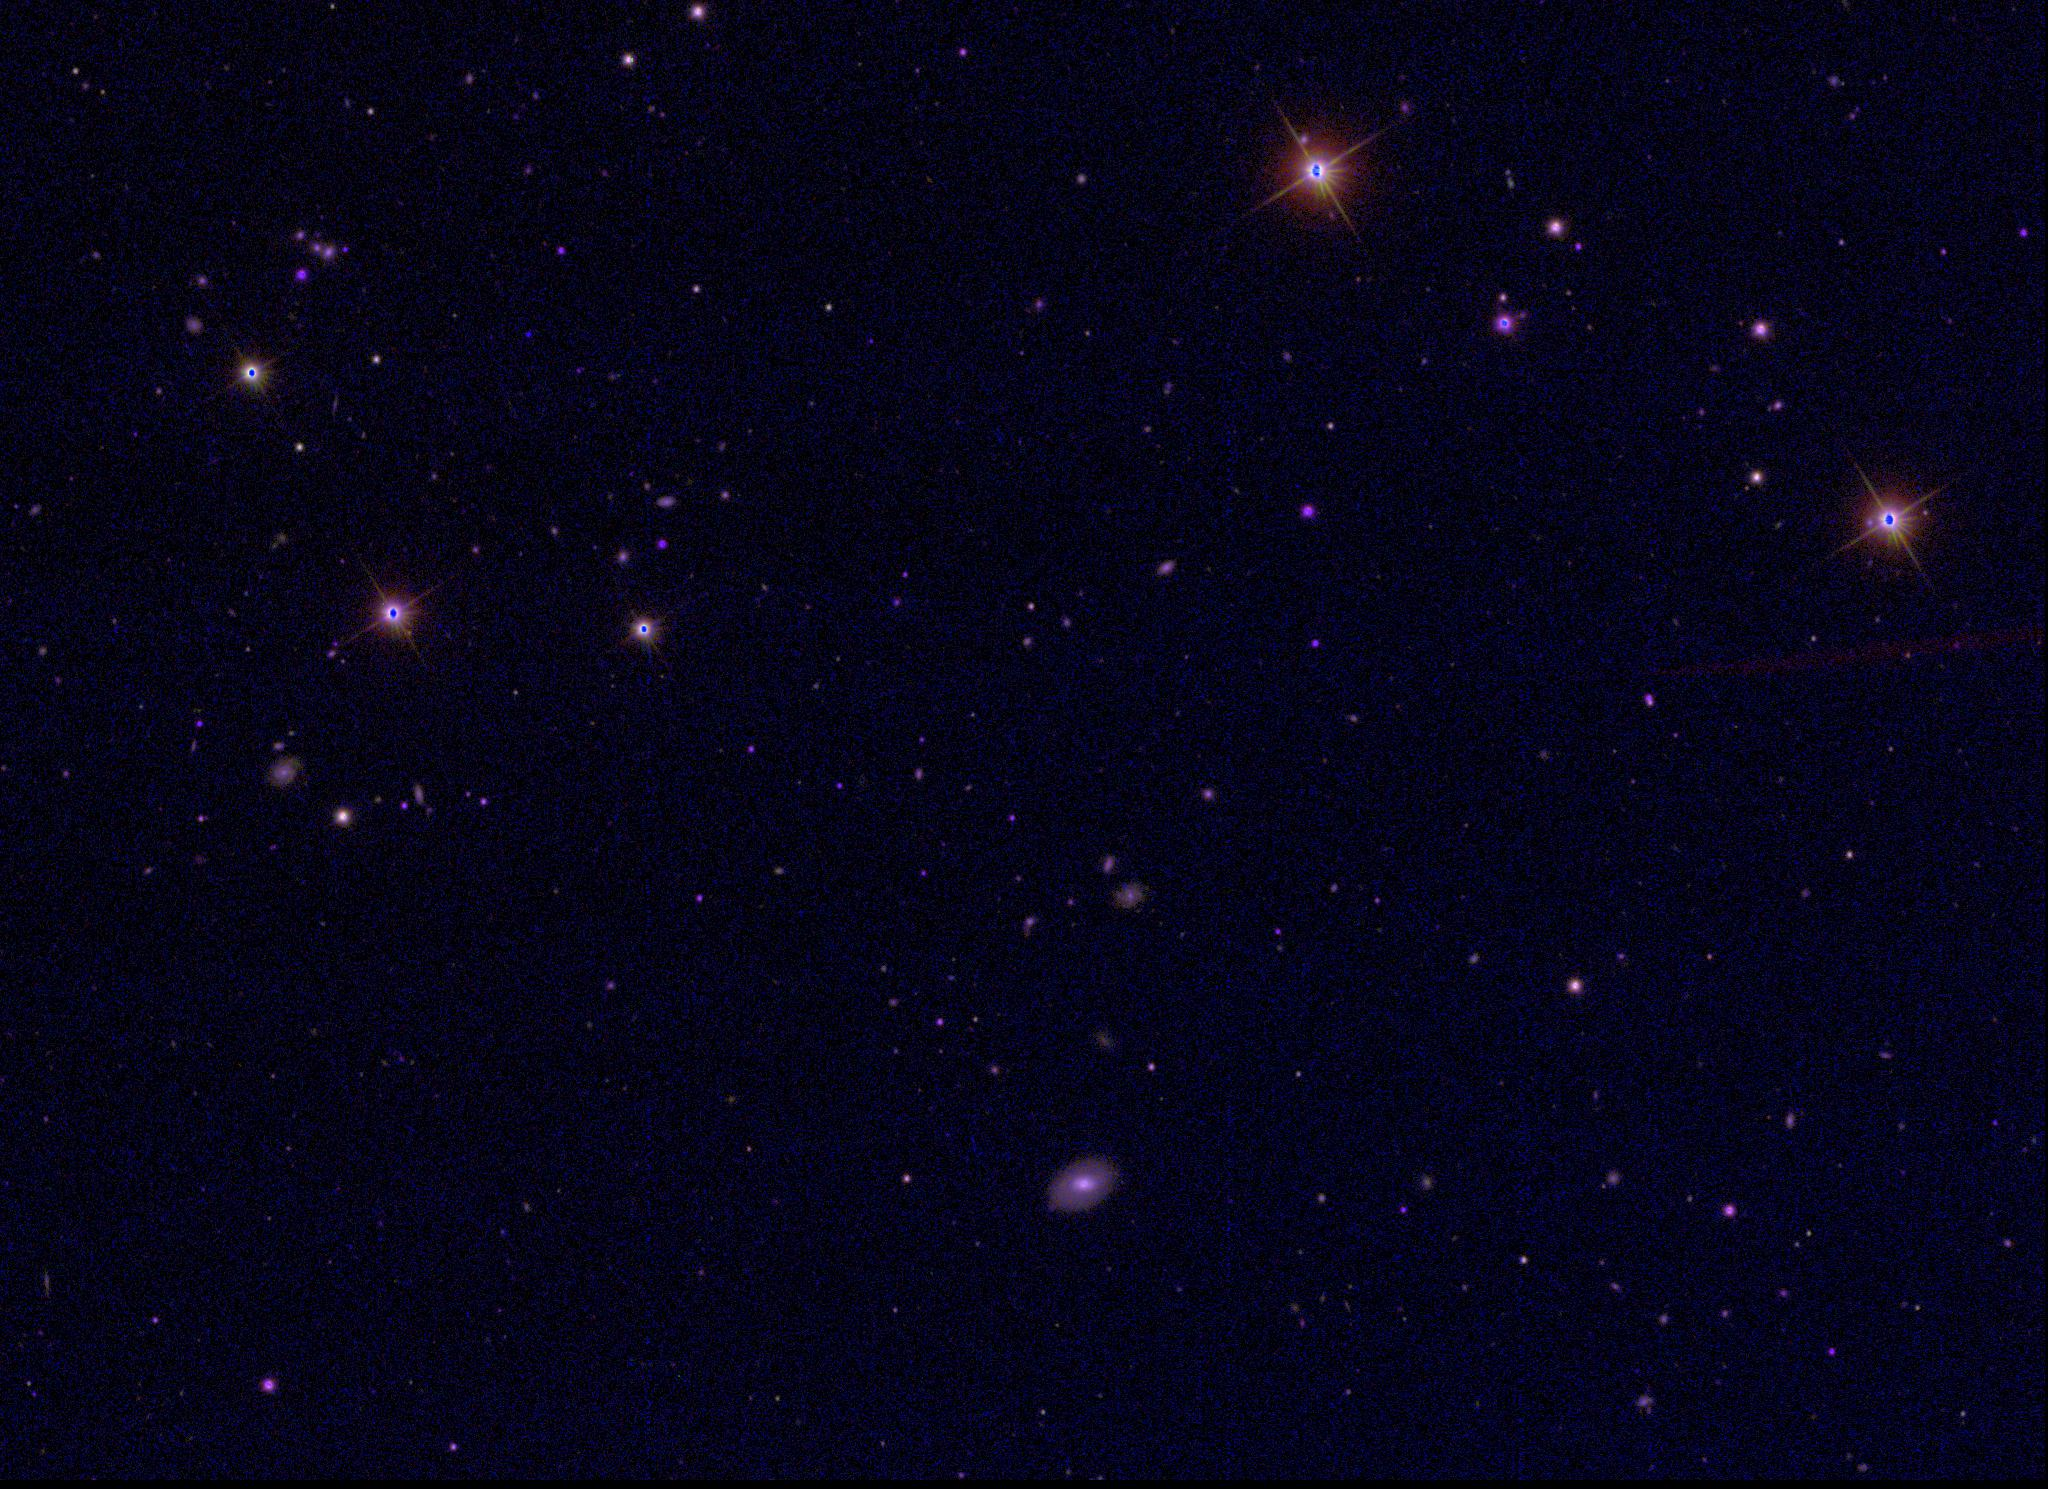L: (522, 325, 536, 337)
